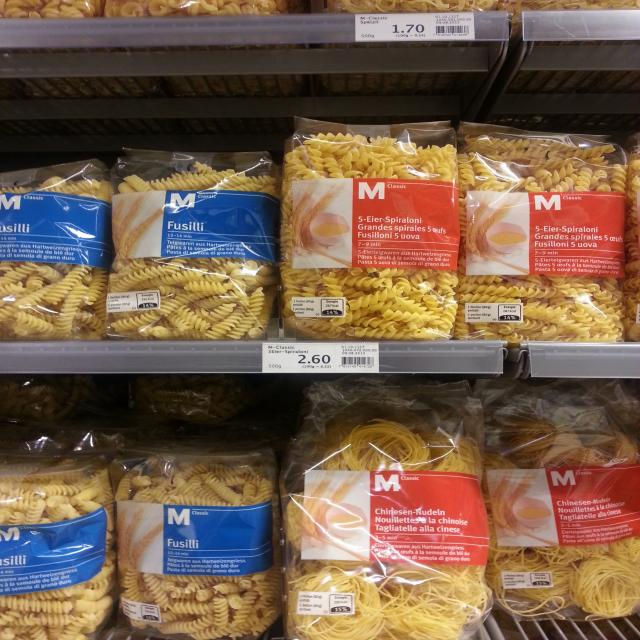Pasta: (284, 382, 492, 640), (286, 117, 459, 347), (476, 378, 640, 620), (458, 118, 628, 342), (106, 444, 285, 640), (112, 145, 272, 337), (0, 448, 113, 640), (0, 161, 108, 336)
